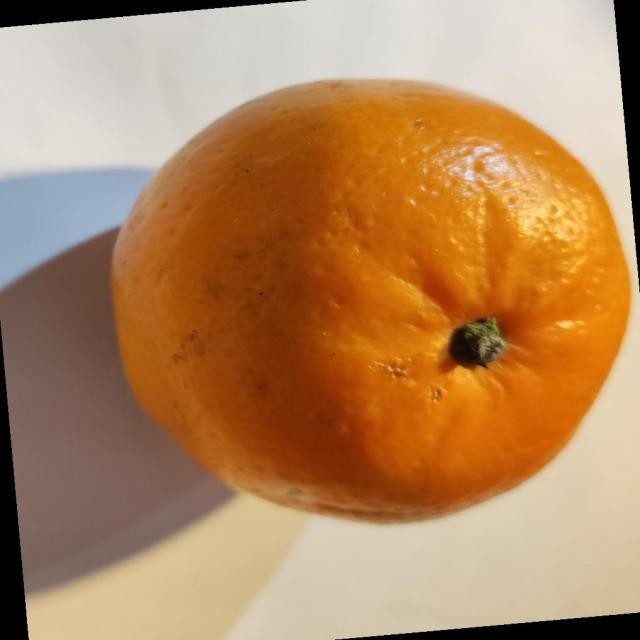fresh orange: (108, 76, 632, 524)
